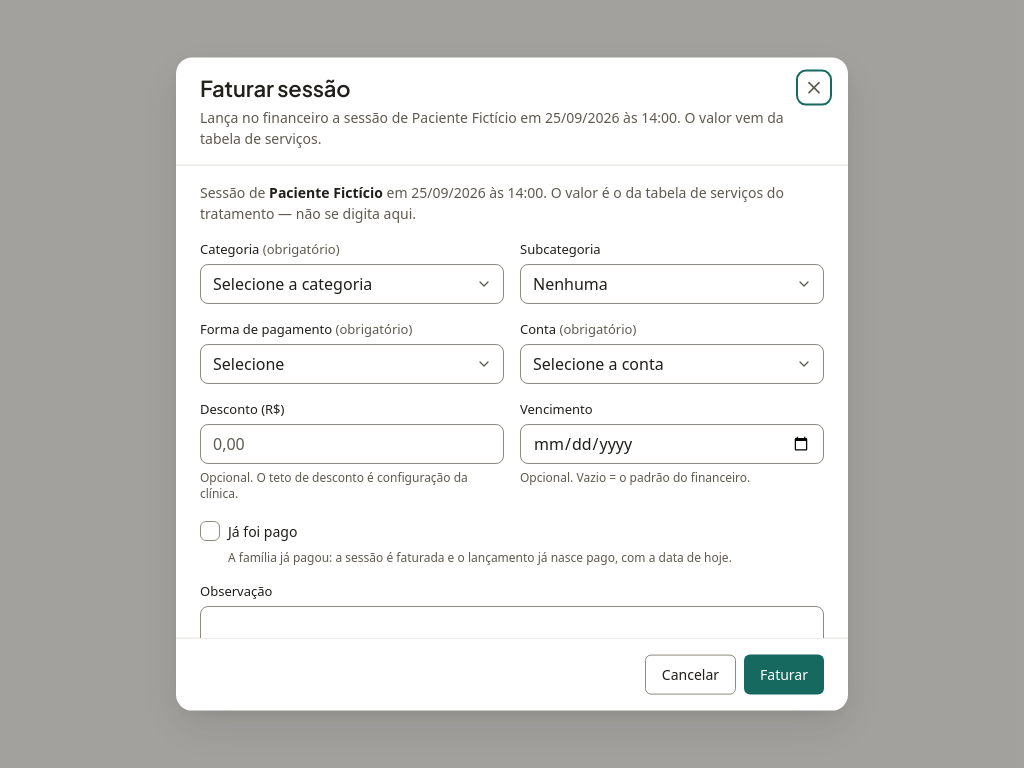
Test case: Faturar sessão — faturar já pago › deve dizer só "Sessão faturada" quando o servidor devolve o lançamento em aberto
Select "Atendimentos" in the dropdown labelled "Categoria (obrigatório)" at (352, 283), box [200, 263, 504, 303]
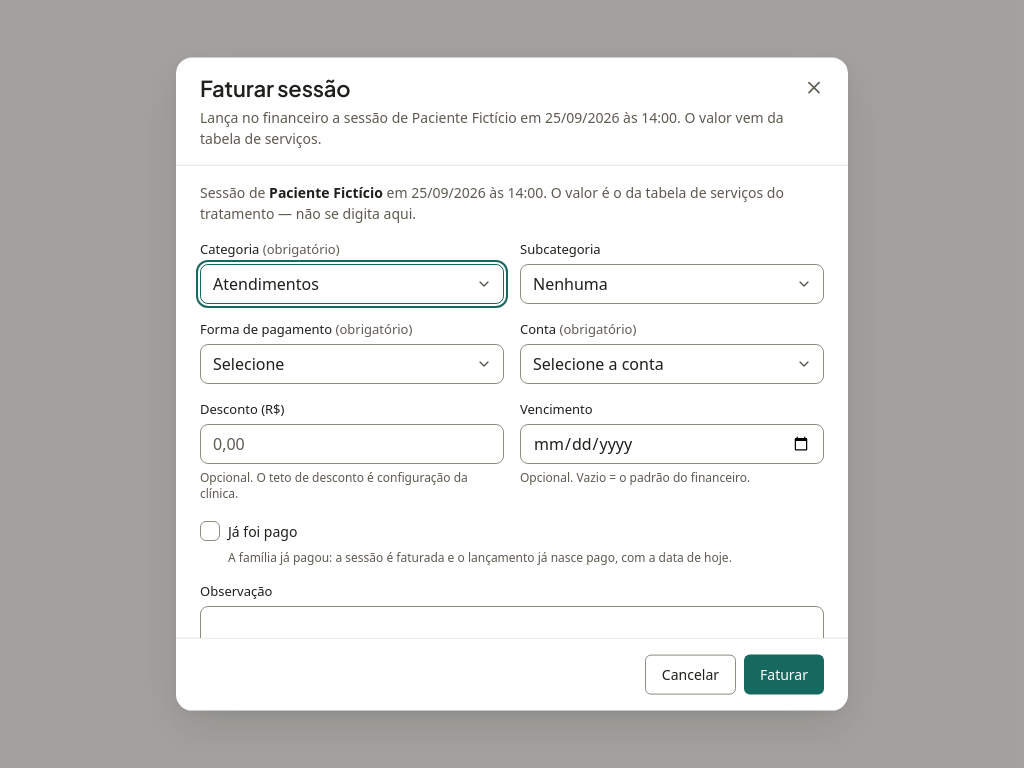
Select "Pix" in the dropdown labelled "Forma de pagamento (obrigatório)" at (352, 364), box [200, 344, 504, 384]
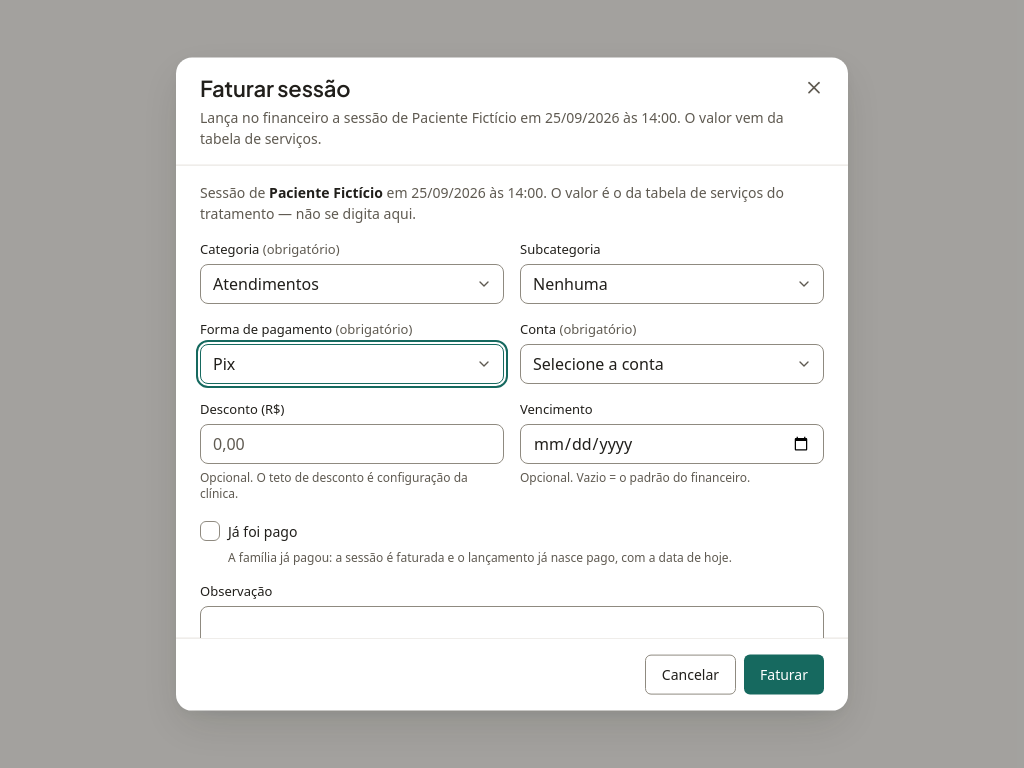
Select "Caixa da recepção" in the dropdown labelled "Conta (obrigatório)" at (672, 364), box [520, 344, 824, 384]
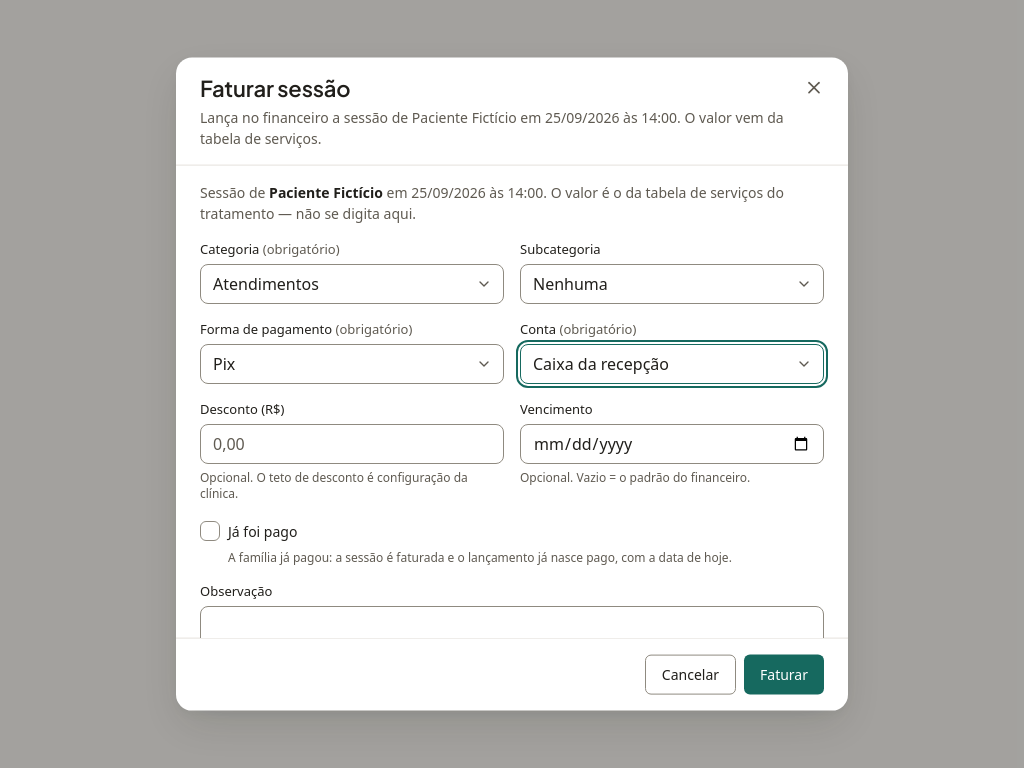
Click the checkbox named "Já foi pago".
click(210, 531)  # box [200, 521, 220, 541]
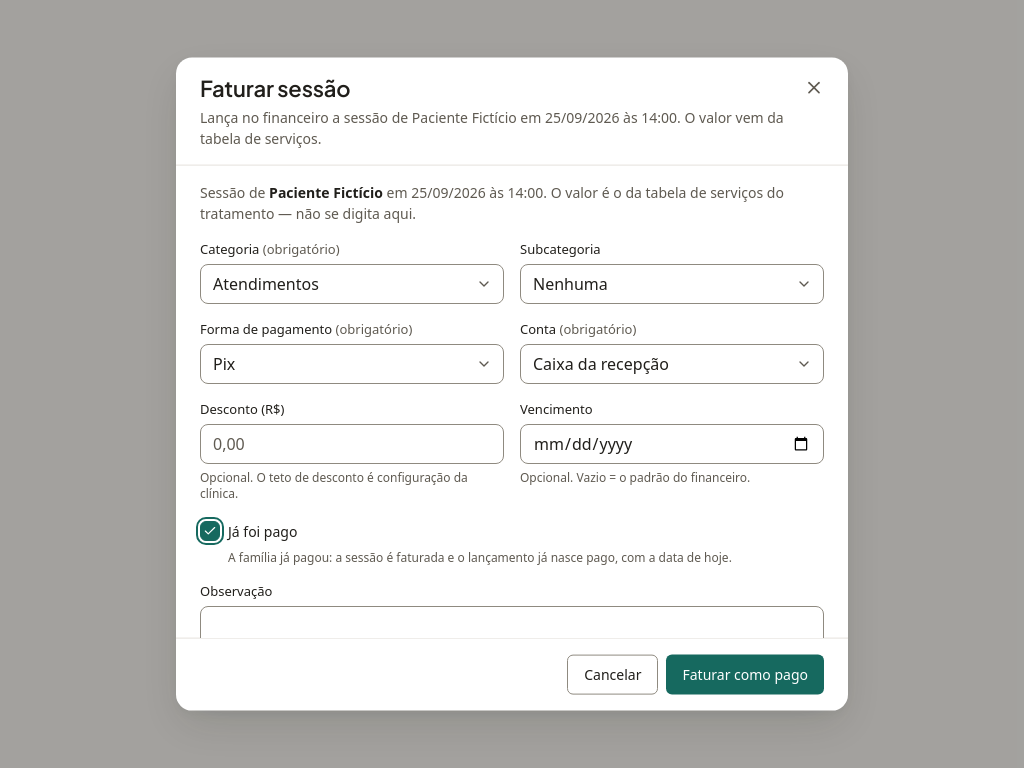
Click the button "Faturar como pago".
click(745, 674)  # box [666, 654, 824, 694]
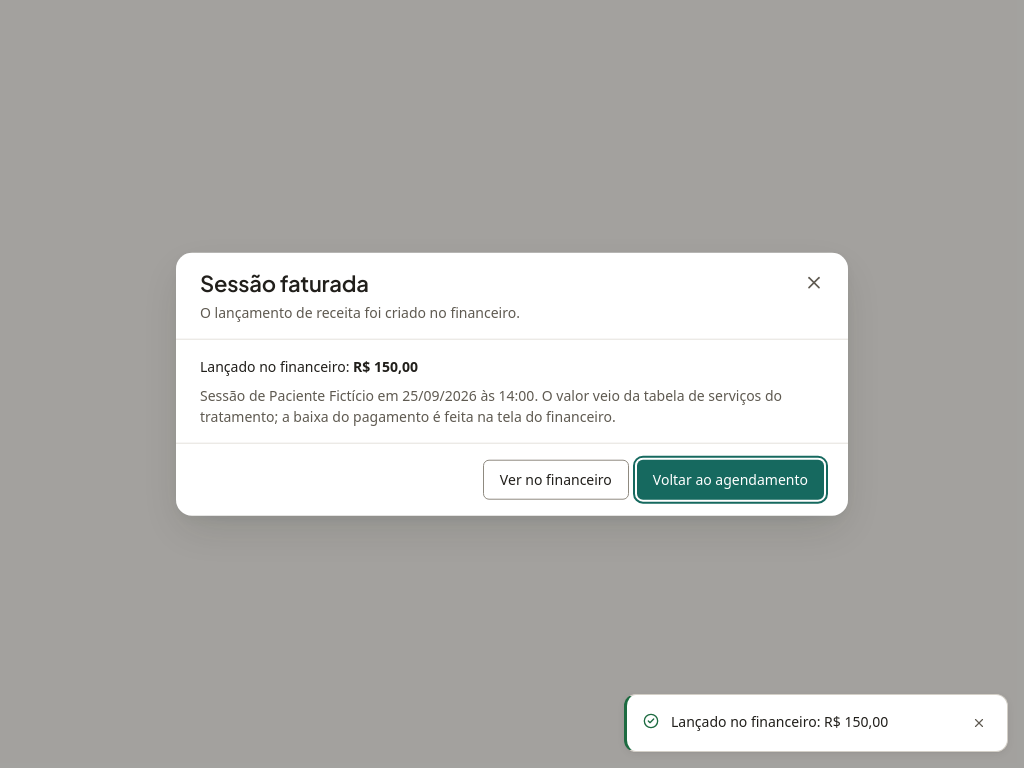
Check: the dialog "Sessão faturada" is shown, box [176, 253, 848, 515]
